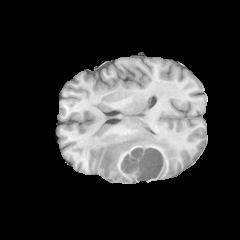glioma: (96, 129, 183, 182)
